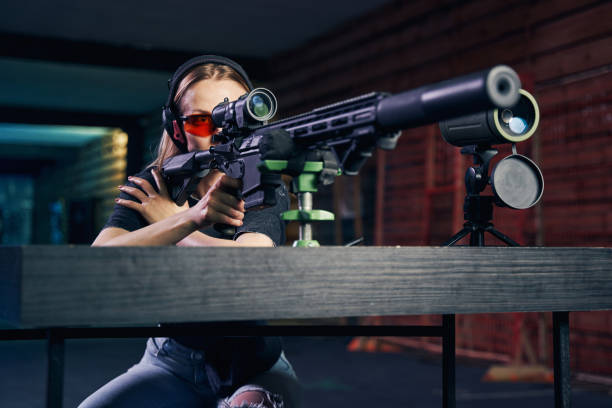gun: (158, 65, 521, 216)
